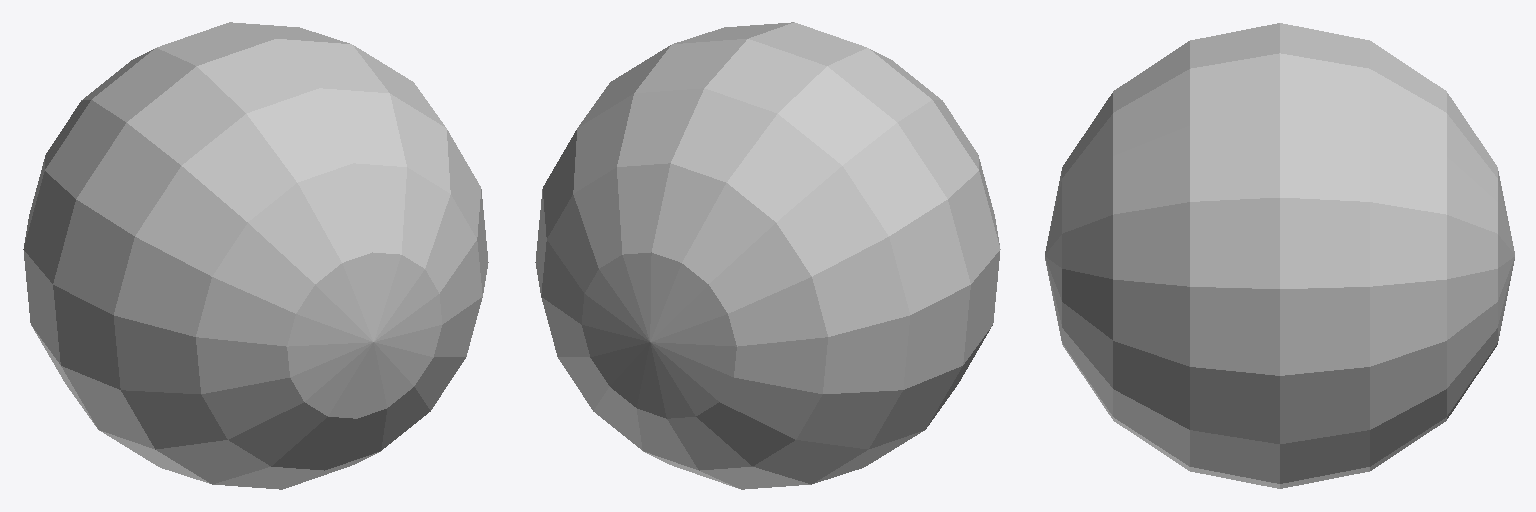
Rendered from bunny_eye.OBJ.
3 renders of one model, left to right at view 1: azimuth 30°, elevation 25°; view 2: azimuth 150°, elevation 25°; view 3: azimuth 270°, elevation 25°, orthographic.
Visible parts, largest first — view 1: ZBrushPolyMesh3D; view 2: ZBrushPolyMesh3D; view 3: ZBrushPolyMesh3D.
Part boxes in pixels (x1,y1,x2,y2): ZBrushPolyMesh3D: (23,22,488,489); ZBrushPolyMesh3D: (535,22,1000,489); ZBrushPolyMesh3D: (1045,23,1514,488).
Bounding box in the file's own units: 0.353 × 0.353 × 0.3547.